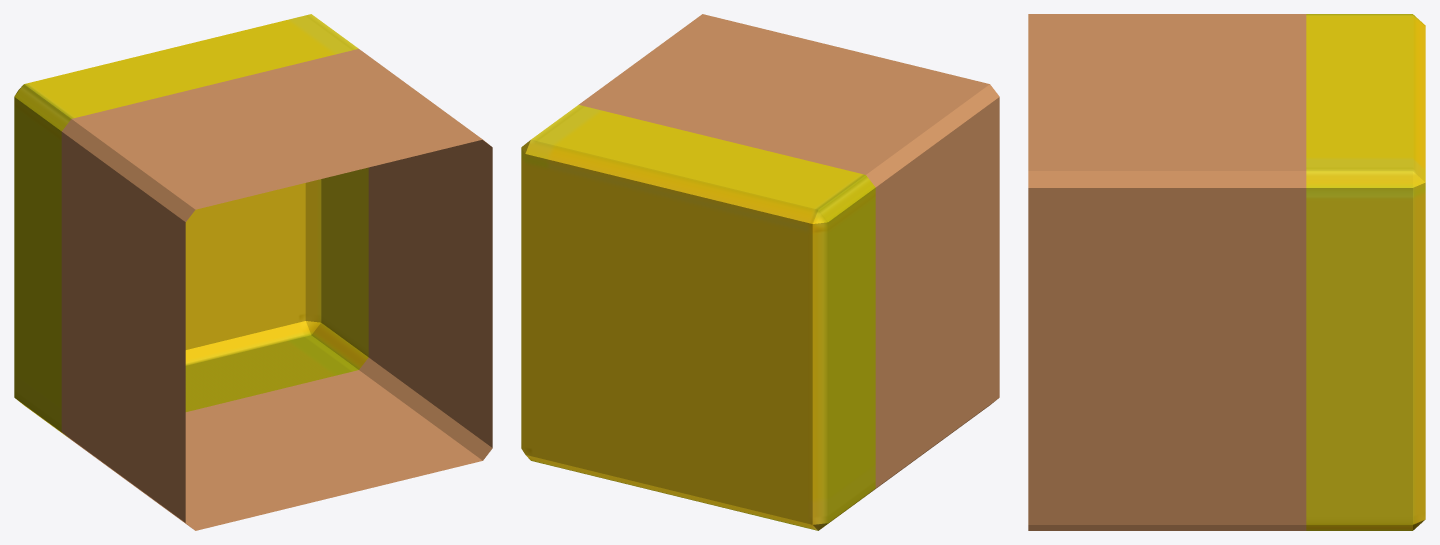
File: GrassYellow.fbx
3 renders of one model, left to right at view 1: azimuth 30°, elevation 25°; view 2: azimuth 150°, elevation 25°; view 3: azimuth 270°, elevation 25°, orthographic. The views are drawn at different scales.
Visible parts, largest first — view 1: Grass 01; view 2: Grass 01; view 3: Grass 01.
Part boxes in pixels (x1=…): Grass 01: x1=14, y1=14, x2=492, y2=530; Grass 01: x1=521, y1=14, x2=999, y2=530; Grass 01: x1=1028, y1=14, x2=1425, y2=530.
Size of the model in its own units: 100 by 100 by 100.
